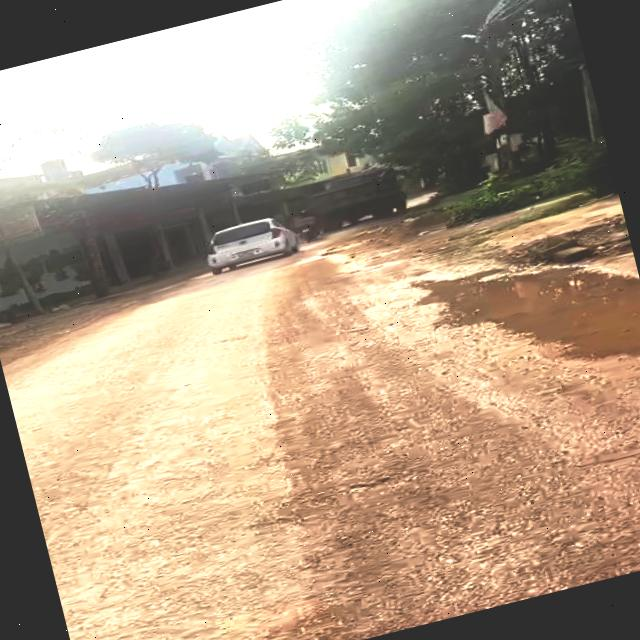pothole: (407, 226, 640, 413)
